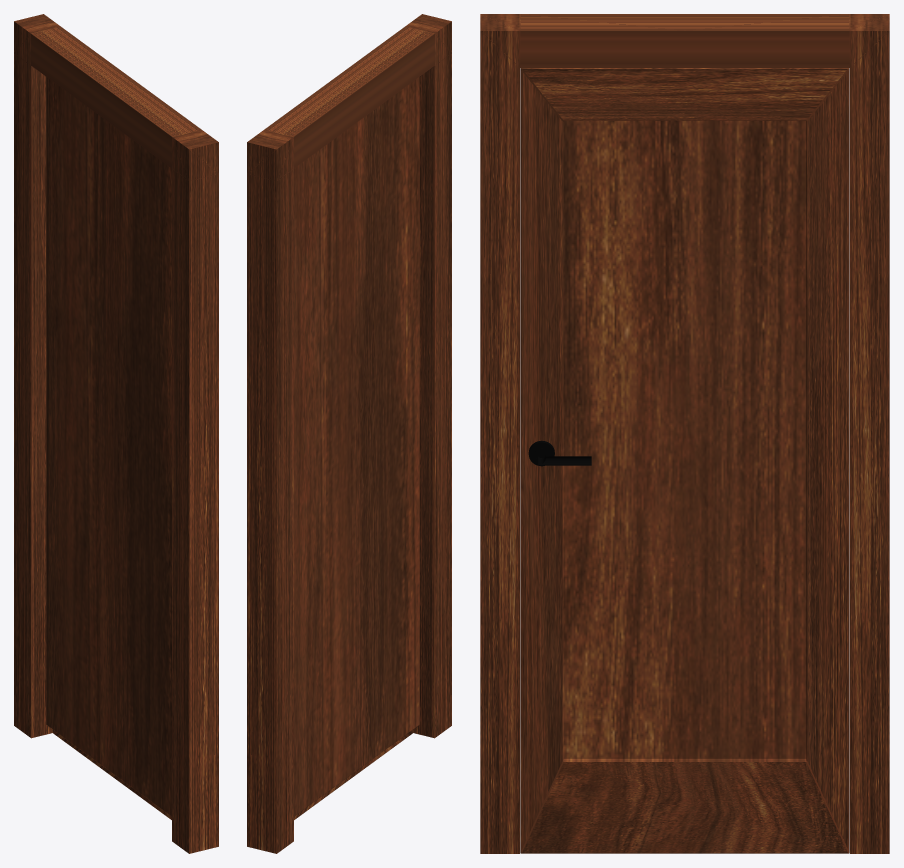
The model's file is door_normal.fbx.
3 views of the same model, side by side, from view 1: azimuth 30°, elevation 25°; view 2: azimuth 150°, elevation 25°; view 3: azimuth 270°, elevation 25° (orthographic). The views are drawn at different scales.
Parts seen in each view (by area): view 1: Cylinder, Cube.001; view 2: Cylinder, Cube.001; view 3: Cylinder, Cube.001.
Part boxes in pixels (x1,y1,x2,y2): Cylinder: [46, 77, 171, 819]; Cube.001: [14, 14, 218, 853]; Cylinder: [294, 77, 419, 819]; Cube.001: [247, 14, 451, 853]; Cylinder: [520, 68, 849, 853]; Cube.001: [480, 14, 889, 853].
Bounding box in the file's own units: 16.85 × 240 × 108.
2 materials, 1 textured.
